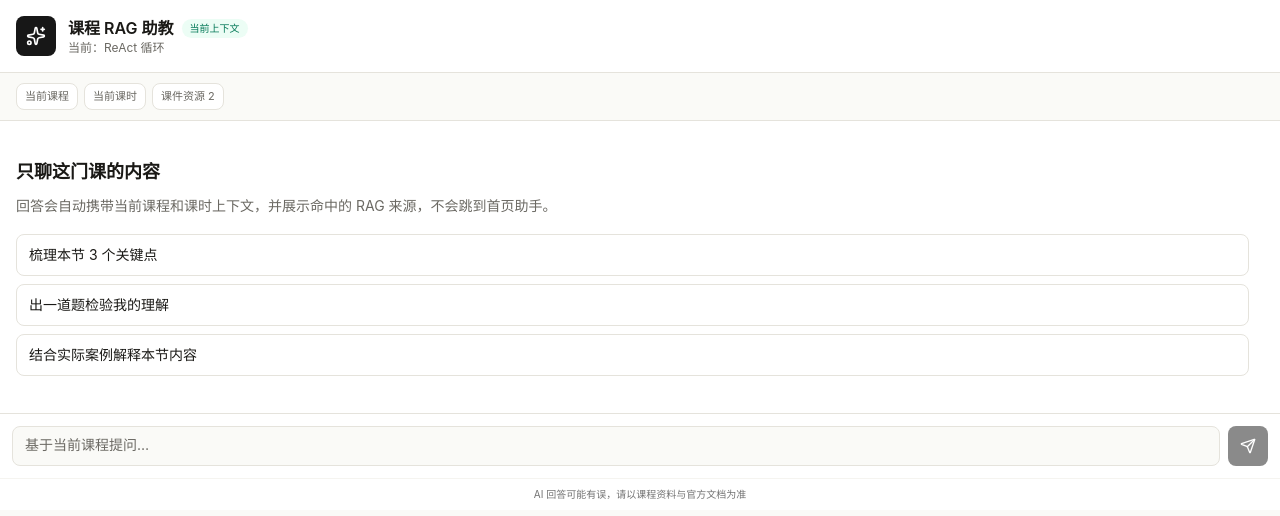
Test: Dashboard 学习组件 › 课程 RAG 助教在当前面板内发送带课程与课时上下文的问题
This screenshot has width=1280, height=516.
Click the button "梳理本节 3 个关键点".
click(93, 254)  # box [16,234,1249,276]
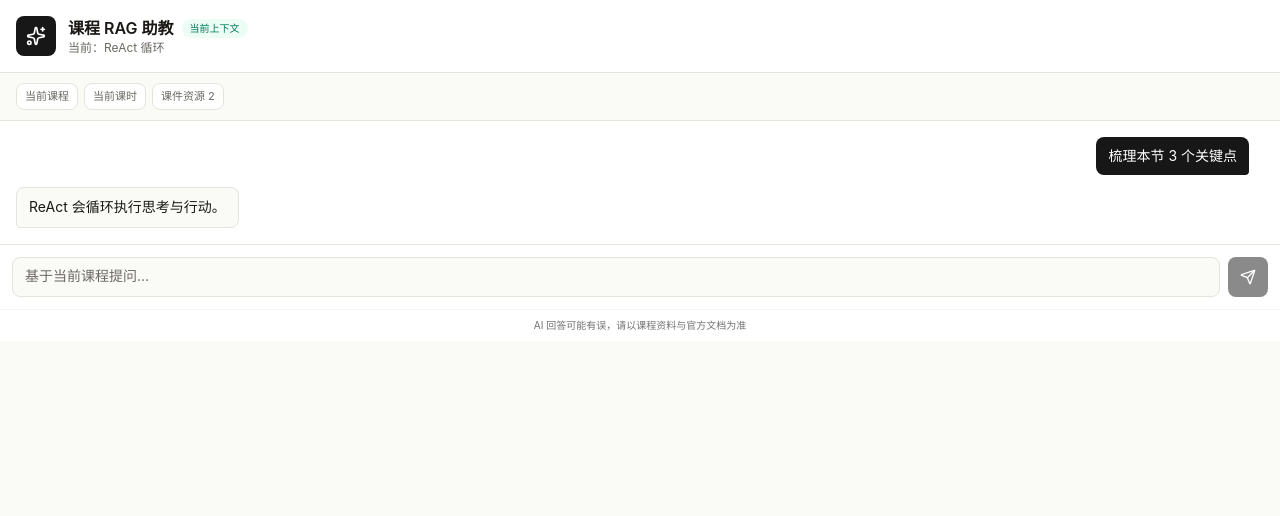
expect the text "ReAct 会循环执行思考与行动。" is shown: met, box [29,196,226,219]
